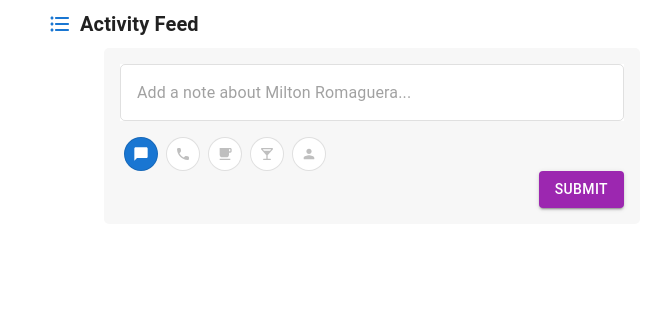
Test case: Container component › remove activity
Type "mockActivity" into the field with placeholder "Add a note about Milton Romaguera...". click: (372, 92)
box: [120, 64, 624, 121]
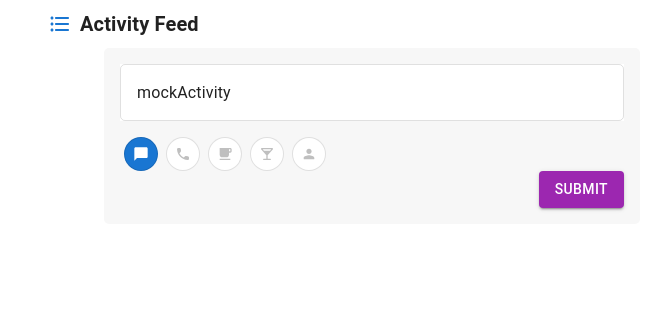
Click the button "Submit". click: (581, 189)
box: [539, 171, 624, 208]
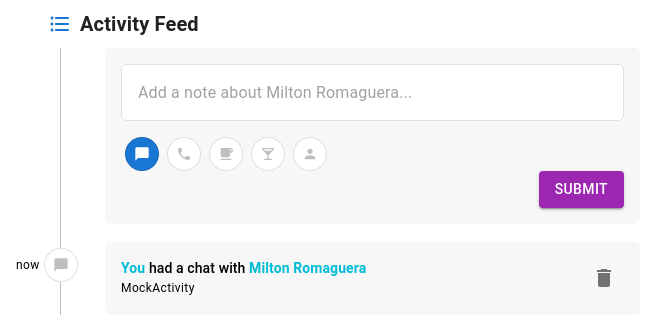
Now the number of elements with test id "activity" is 1, box [48, 248, 648, 315]
Click the button with test id "DeleteIcon". click: (604, 278)
box: [584, 258, 624, 299]
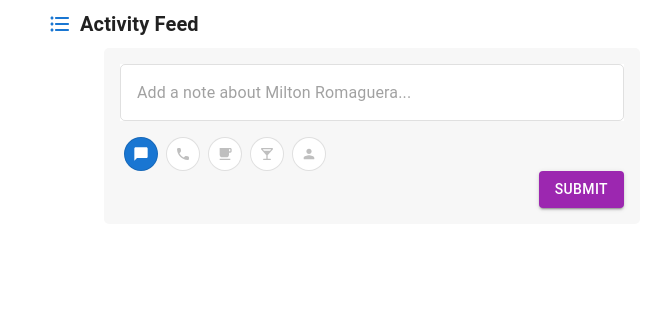
Now no elements with test id "activity" are shown
